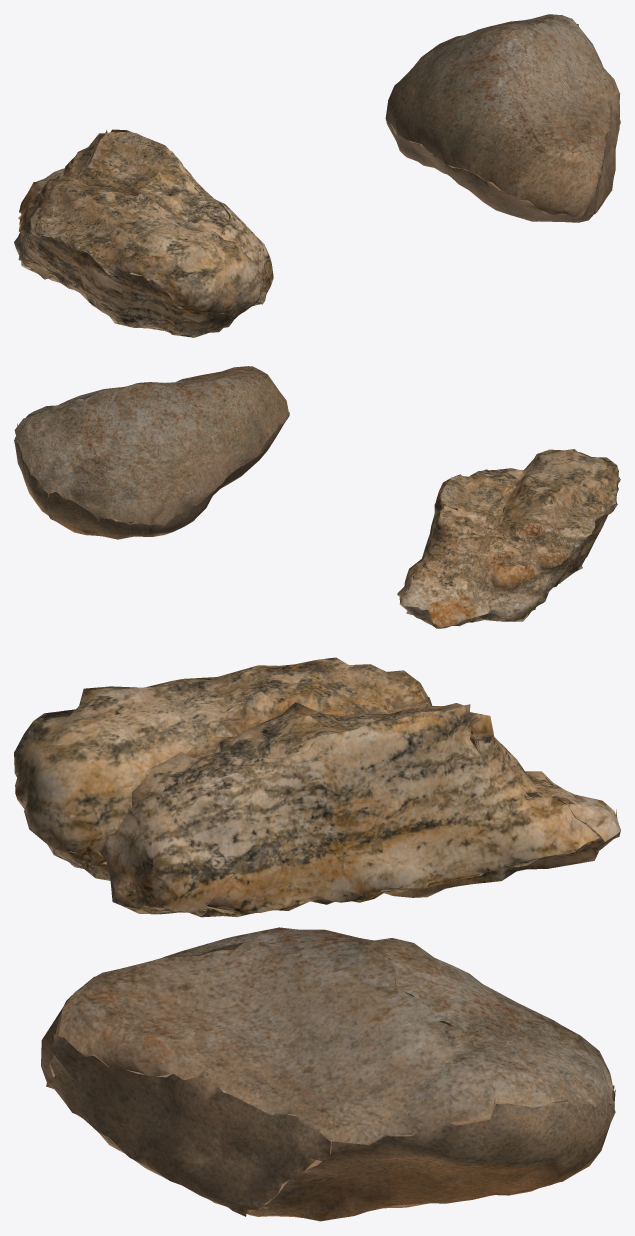
File: namaqualand_boulders_01_1k.glb
3 renders of one model, top to bottom at view 1: azimuth 30°, elevation 25°; view 2: azimuth 150°, elevation 25°; view 3: azimuth 270°, elevation 25°, orthographic. The views are drawn at different scales.
Parts seen in each view (by area): view 1: namaqualand_rocks_01_a, namaqualand_rocks_01_b; view 2: namaqualand_rocks_01_a, namaqualand_rocks_01_b; view 3: namaqualand_rocks_01_a, namaqualand_rocks_01_b.
Part boxes in pixels (<box>): namaqualand_rocks_01_a: <box>385,14,620,222</box>; namaqualand_rocks_01_b: <box>14,129,273,337</box>; namaqualand_rocks_01_a: <box>14,366,289,539</box>; namaqualand_rocks_01_b: <box>397,449,620,628</box>; namaqualand_rocks_01_a: <box>41,927,615,1221</box>; namaqualand_rocks_01_b: <box>14,657,620,917</box>.
Size of the model in its own units: 1.06 by 0.2525 by 0.5828.
Materials: 1 (1 with a texture image).
